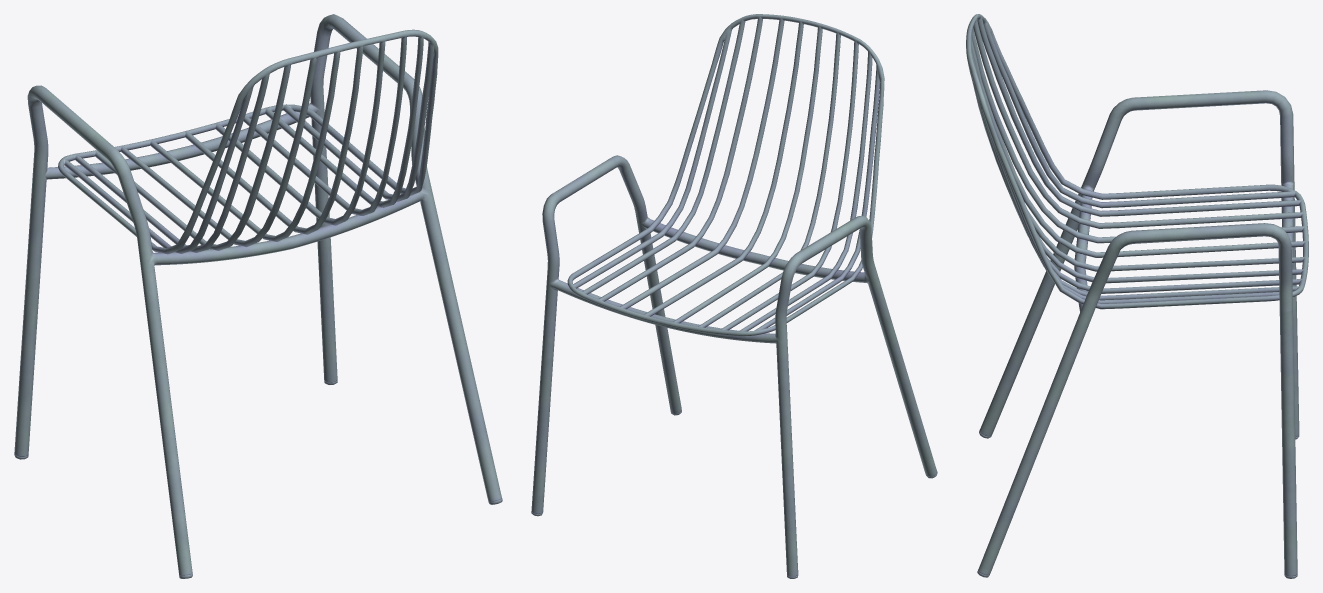
File: metal_chair.glb
The picture shows the model from 3 angles, left to right: view 1: azimuth 30°, elevation 25°; view 2: azimuth 150°, elevation 25°; view 3: azimuth 270°, elevation 25°; orthographic projection. The views are drawn at different scales.
Parts seen in each view (by area): view 1: Metallic_Chair; view 2: Metallic_Chair; view 3: Metallic_Chair.
Boxes of the visible parts, x1,y1,x2,y2 form: Metallic_Chair: (14,14,502,578); Metallic_Chair: (531,14,937,578); Metallic_Chair: (966,14,1308,578).
Size of the model in its own units: 0.0475 by 0.0711 by 0.0473.
1 material, 1 textured.
